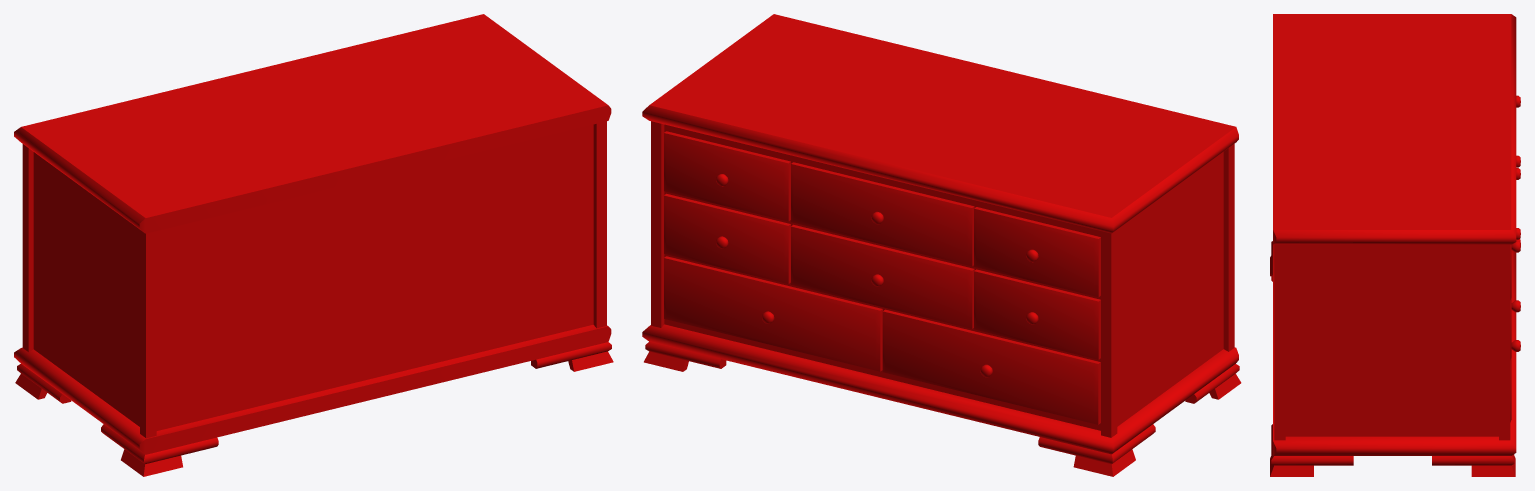
File: Attic_Dresser_01_LP.glb
The picture shows the model from 3 angles, left to right: view 1: azimuth 30°, elevation 25°; view 2: azimuth 150°, elevation 25°; view 3: azimuth 270°, elevation 25°; orthographic projection. The views are drawn at different scales.
Parts seen in each view (by area): view 1: Attic_Dresser_01_LP; view 2: Attic_Dresser_01_LP; view 3: Attic_Dresser_01_LP.
Part boxes in pixels (left/top/right/bottom): Attic_Dresser_01_LP: left=14, top=14, right=613, bottom=476; Attic_Dresser_01_LP: left=642, top=14, right=1241, bottom=476; Attic_Dresser_01_LP: left=1270, top=14, right=1520, bottom=476.
Size of the model in its own units: 1.83 by 0.9504 by 0.8805.
